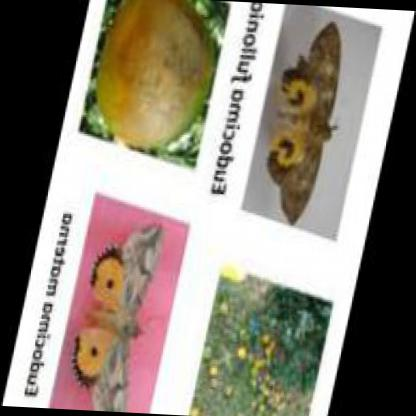fruit sucking moth: (266, 22, 343, 226)
